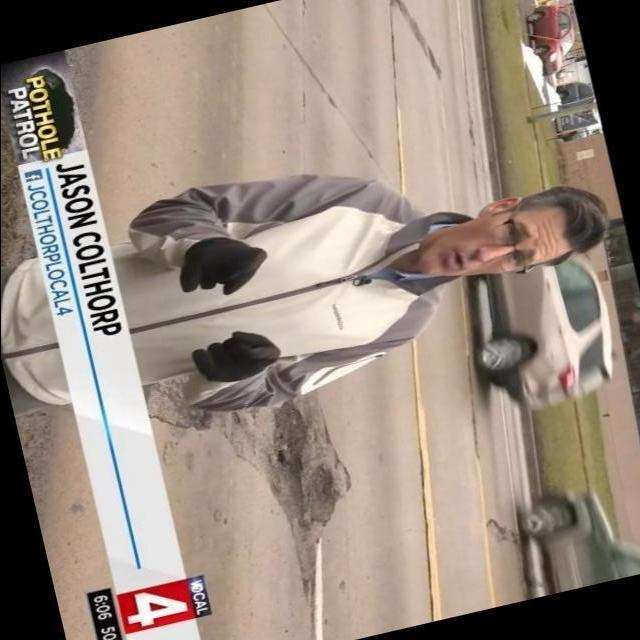pothole: (173, 402, 348, 602)
